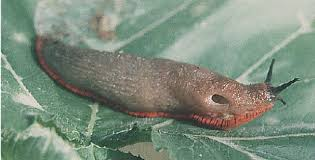slug: (34, 30, 299, 125)
